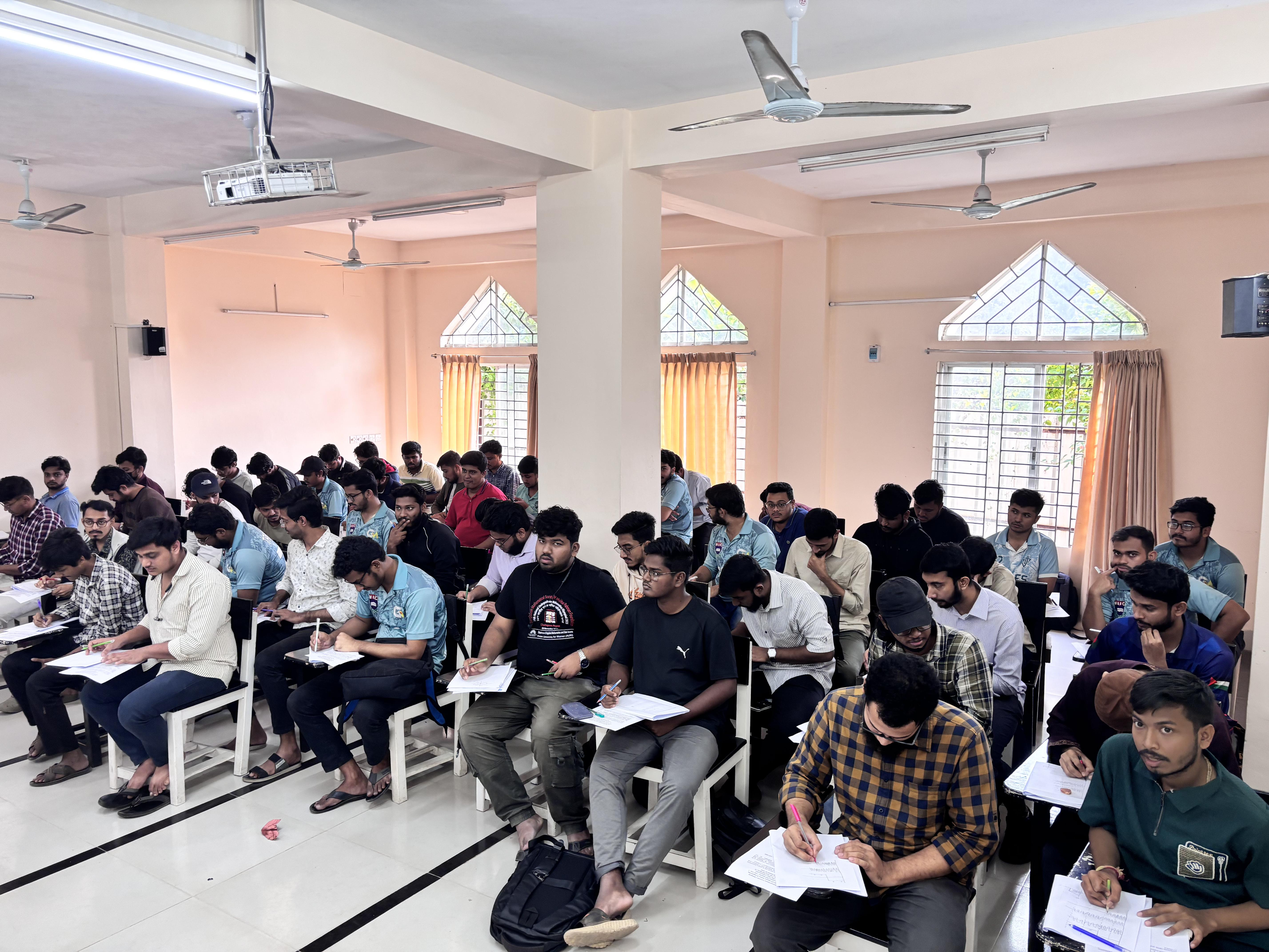copying: (1097, 562, 1216, 669), (261, 482, 337, 618), (862, 573, 955, 679), (918, 541, 984, 631), (700, 479, 753, 549), (180, 461, 232, 510), (248, 480, 284, 540)
no_cheating: (768, 649, 946, 916), (1084, 671, 1240, 943), (290, 534, 435, 742), (494, 506, 594, 748), (611, 537, 713, 774), (14, 527, 126, 723), (113, 523, 212, 730), (712, 551, 798, 682), (789, 507, 866, 626), (986, 486, 1051, 584), (182, 501, 267, 574), (441, 450, 503, 544), (1152, 489, 1229, 563), (86, 462, 167, 531), (861, 481, 923, 568), (478, 497, 532, 586), (0, 474, 48, 572), (605, 507, 658, 583), (385, 482, 435, 552), (335, 469, 390, 532), (76, 498, 124, 568), (908, 476, 958, 540), (658, 447, 693, 538), (36, 450, 79, 512), (1103, 528, 1153, 580), (243, 449, 295, 497), (204, 438, 252, 490), (297, 447, 339, 506), (763, 479, 799, 537), (112, 440, 160, 479), (395, 436, 432, 486), (508, 453, 542, 499), (350, 434, 383, 472)
